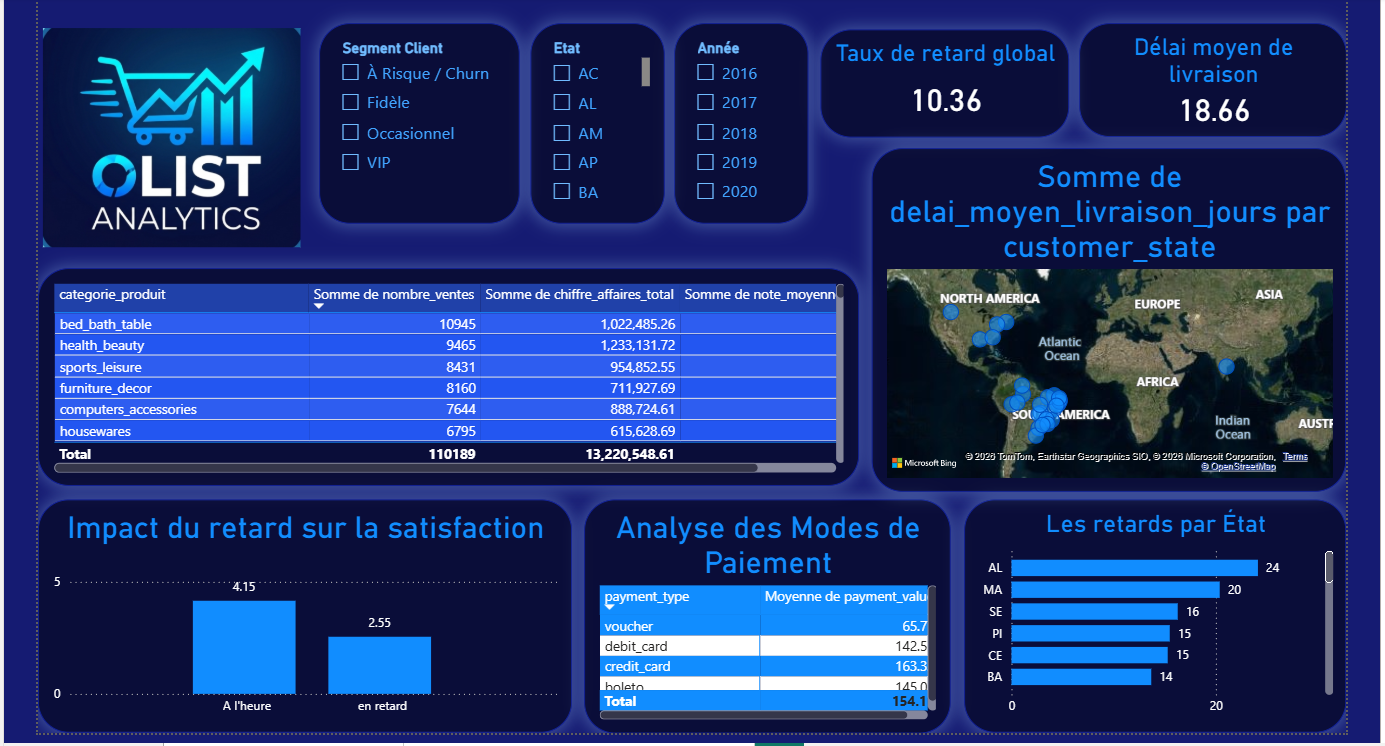

The page's visual inventory and layout, read from the dashboard file:
{"tool":"powerbi","page":{"name":"Performance Opérationnelle, Logistique & Expérience Client","canvas":[1280,720],"ordinal":1},"visuals":[{"type":"card","title":"Délai moyen de livraison","fields":{"Values":["Avg(analytics vw_delivery_performance.delai_moyen_livraison_jours)"]},"box":[1018.6,25.7,261.4,111.4],"z":0},{"type":"card","title":"Taux de retard global","fields":{"Values":["Avg(analytics vw_delivery_performance.taux_retard_pct)"]},"box":[765.7,31.4,242.9,105.7],"z":1000},{"type":"clusteredColumnChart","title":"Impact du retard sur la satisfaction","fields":{"Category":["analytics fact_orders.statut livraison"],"Y":["Avg(analytics fact_orders.review_score)"]},"box":[0,491.4,522.2,227.9],"z":2000},{"type":"pivotTable","title":"Analyse des Modes de Paiement","fields":{"Rows":["analytics fact_orders.payment_type_fact"],"Values":["Avg(clean order_payments.payment_value)"]},"box":[534.3,491.4,358.6,228.6],"z":3000},{"type":"clusteredBarChart","title":"Les retards par État","fields":{"Category":["analytics dim_customers.customer_state"],"Y":["CountNonNull(analytics fact_orders.order_id)"]},"box":[905.7,491.4,373.9,227.9],"z":4000},{"type":"map","fields":{"Category":["analytics dim_customers.customer_state"],"Size":["analytics fact_orders.Délai Moyen de Livraison"]},"box":[815.7,148.6,464.3,335.7],"z":5000},{"type":"slicer","fields":{"Values":["analytics dim_date.year_number"]},"box":[622.9,25.7,131.4,195.7],"z":6000},{"type":"slicer","fields":{"Values":["analytics dim_customers.customer_state"]},"box":[481.4,25.7,131.4,195.7],"z":7000},{"type":"slicer","fields":{"Values":["analytics vw_customer_rfm_summary.segment_client"]},"box":[275.7,25.7,195.7,195.7],"z":8000},{"type":"tableEx","fields":{"Values":["analytics dim_products.product_category_name","CountNonNull(analytics fact_orders.order_item_id)","Sum(analytics fact_orders.Chiffre d'Affaires)","Sum(analytics fact_orders.Note Moyenne)"]},"box":[0,265.7,802.9,212.9],"z":9000},{"type":"image","box":[0,0,261.4,275.7],"z":10000}]}

Visuals, with their boxes on the page's 1280x720 design canvas (x1, y1, x2, y2). These are canvas units, not pixel positions in the 1385x746 screenshot, which may show the page scaled, cropped or inside an application window:
"Délai moyen de livraison" card: x1=1019 y1=26 x2=1280 y2=137
"Taux de retard global" card: x1=766 y1=31 x2=1009 y2=137
"Impact du retard sur la satisfaction" clusteredColumnChart: x1=0 y1=491 x2=522 y2=719
"Analyse des Modes de Paiement" pivotTable: x1=534 y1=491 x2=893 y2=720
"Les retards par État" clusteredBarChart: x1=906 y1=491 x2=1280 y2=719
map - analytics dim_customers.customer_state x analytics fact_orders.Délai Moyen de Livraison: x1=816 y1=149 x2=1280 y2=484
slicer - analytics dim_date.year_number: x1=623 y1=26 x2=754 y2=221
slicer - analytics dim_customers.customer_state: x1=481 y1=26 x2=613 y2=221
slicer - analytics vw_customer_rfm_summary.segment_client: x1=276 y1=26 x2=471 y2=221
tableEx - analytics dim_products.product_category_name x CountNonNull(analytics fact_orders.order_item_id): x1=0 y1=266 x2=803 y2=479
image: x1=0 y1=0 x2=261 y2=276
